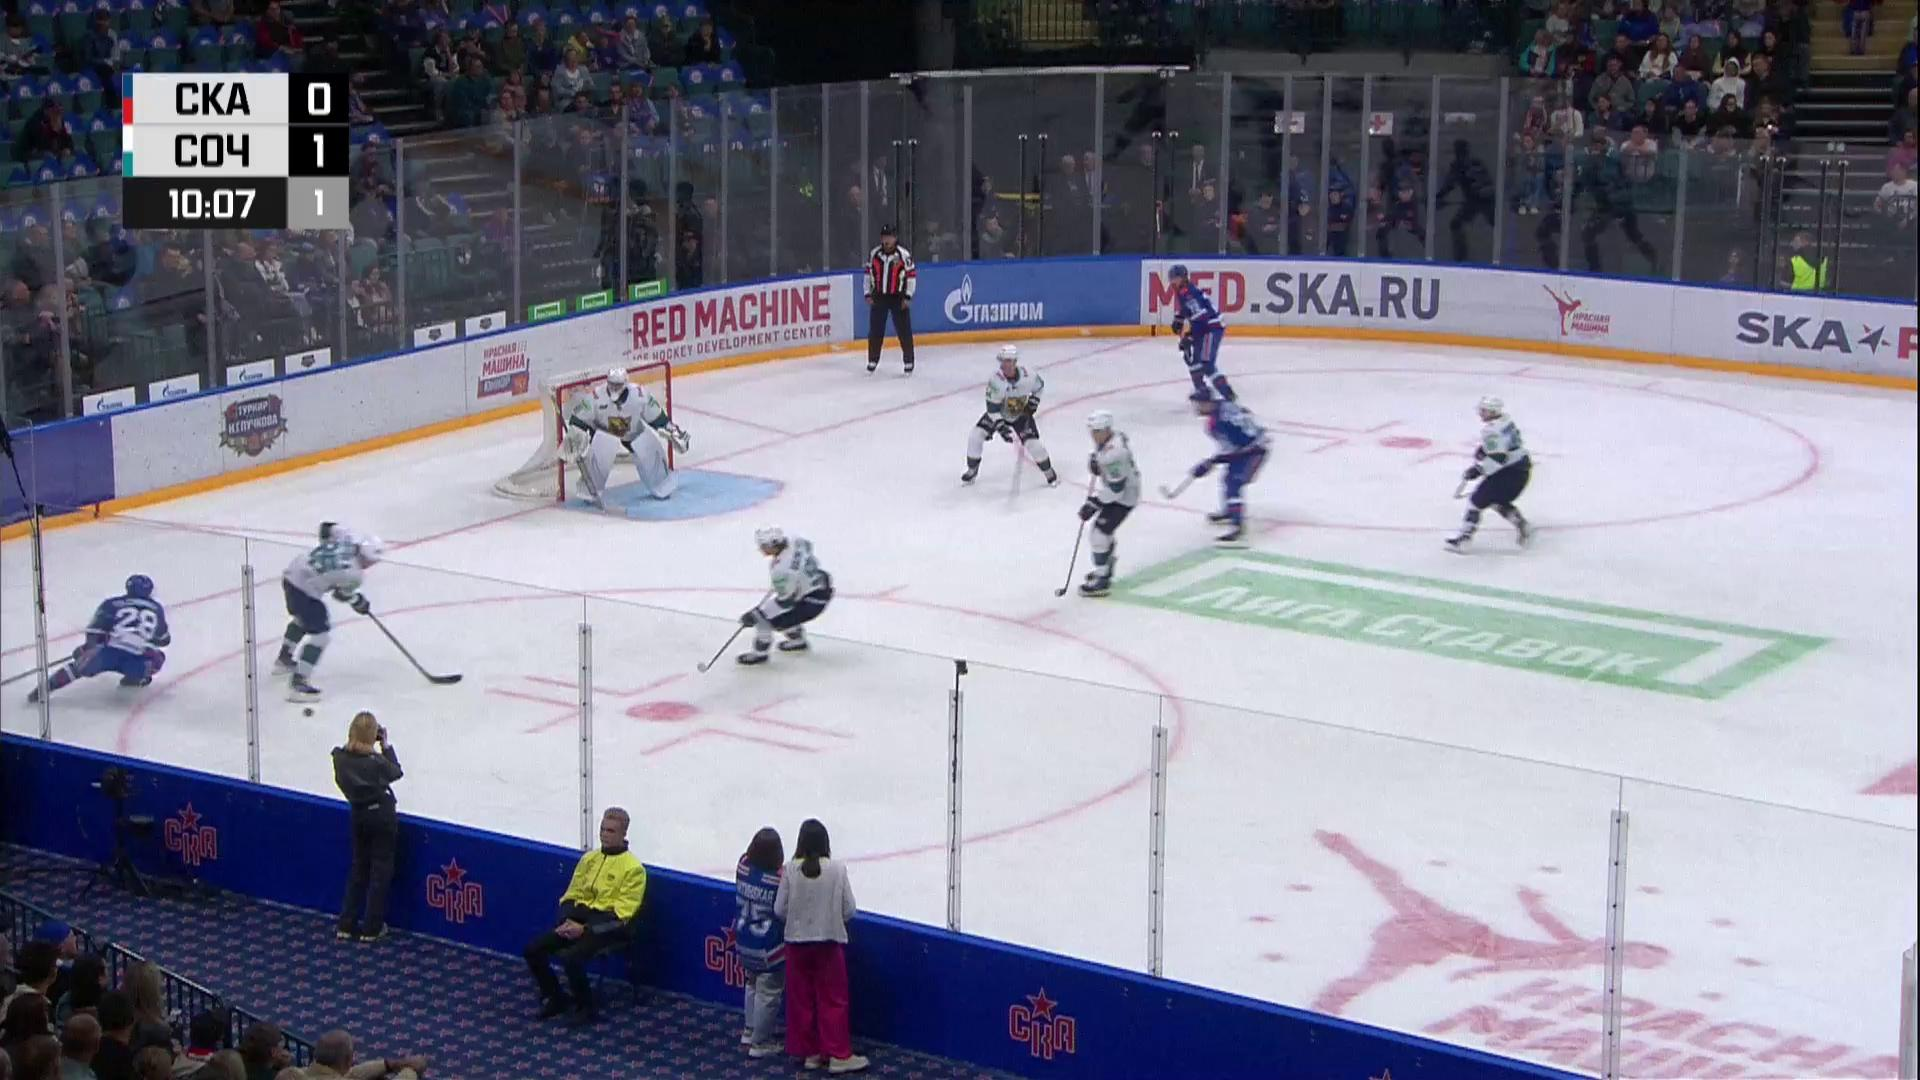ball: (302, 707, 315, 717)
